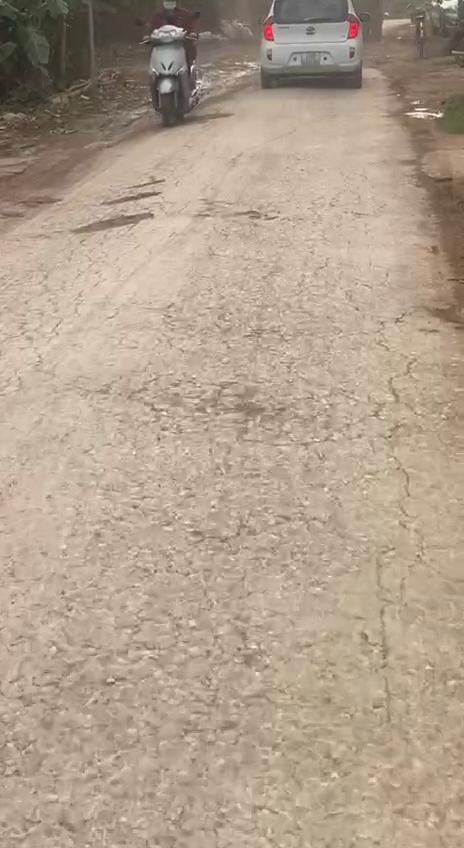pothole: (68, 210, 160, 236)
